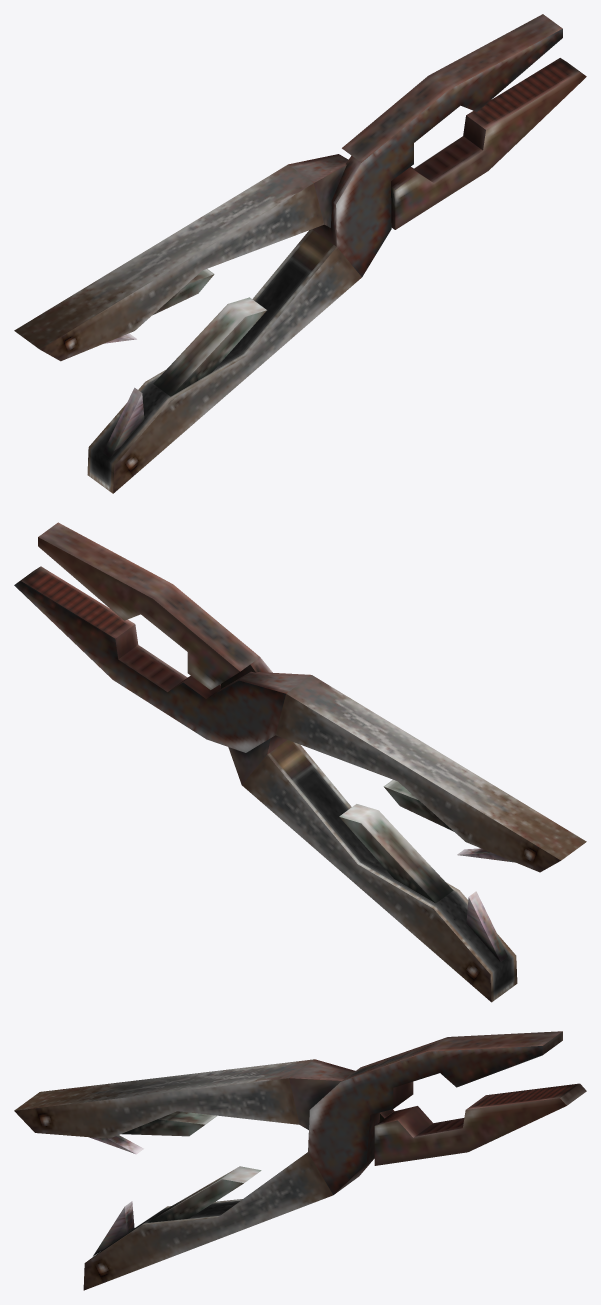
File: tool.FBX
3 renders of one model, top to bottom at view 1: azimuth 30°, elevation 25°; view 2: azimuth 150°, elevation 25°; view 3: azimuth 330°, elevation 25°, orthographic.
Visible parts, largest first — view 1: tool; view 2: tool; view 3: tool.
Part boxes in pixels (x1=…): tool: x1=14, y1=14, x2=586, y2=493; tool: x1=14, y1=522, x2=586, y2=1002; tool: x1=14, y1=1031, x2=586, y2=1290.
Size of the model in its own units: 47.63 by 29.16 by 4.17.
